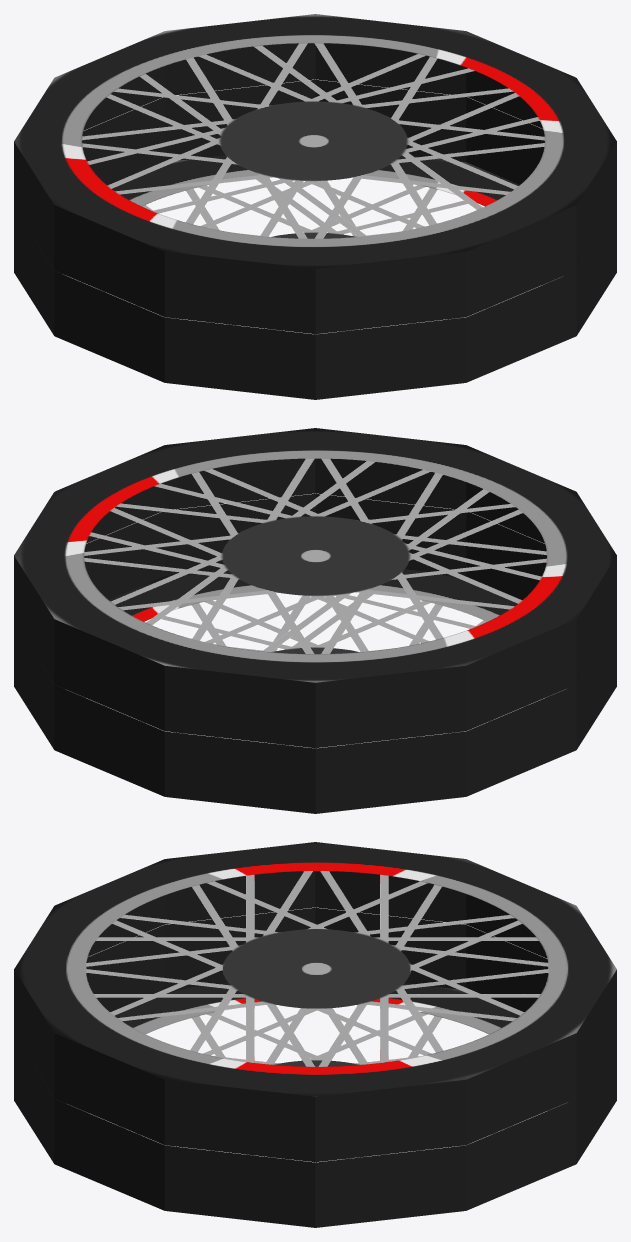
File: bikeWheel.fbx
3 renders of one model, top to bottom at view 1: azimuth 30°, elevation 25°; view 2: azimuth 150°, elevation 25°; view 3: azimuth 270°, elevation 25°, orthographic.
Visible parts, largest first — view 1: bikeWhell; view 2: bikeWhell; view 3: bikeWhell.
Part boxes in pixels (left/top/right/bottom): bikeWhell: left=14, top=14, right=616, bottom=399; bikeWhell: left=14, top=428, right=616, bottom=813; bikeWhell: left=14, top=842, right=616, bottom=1227.
Size of the model in its own units: 200 by 48 by 200.
